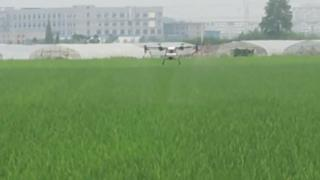UAV: (142, 44, 202, 66)
